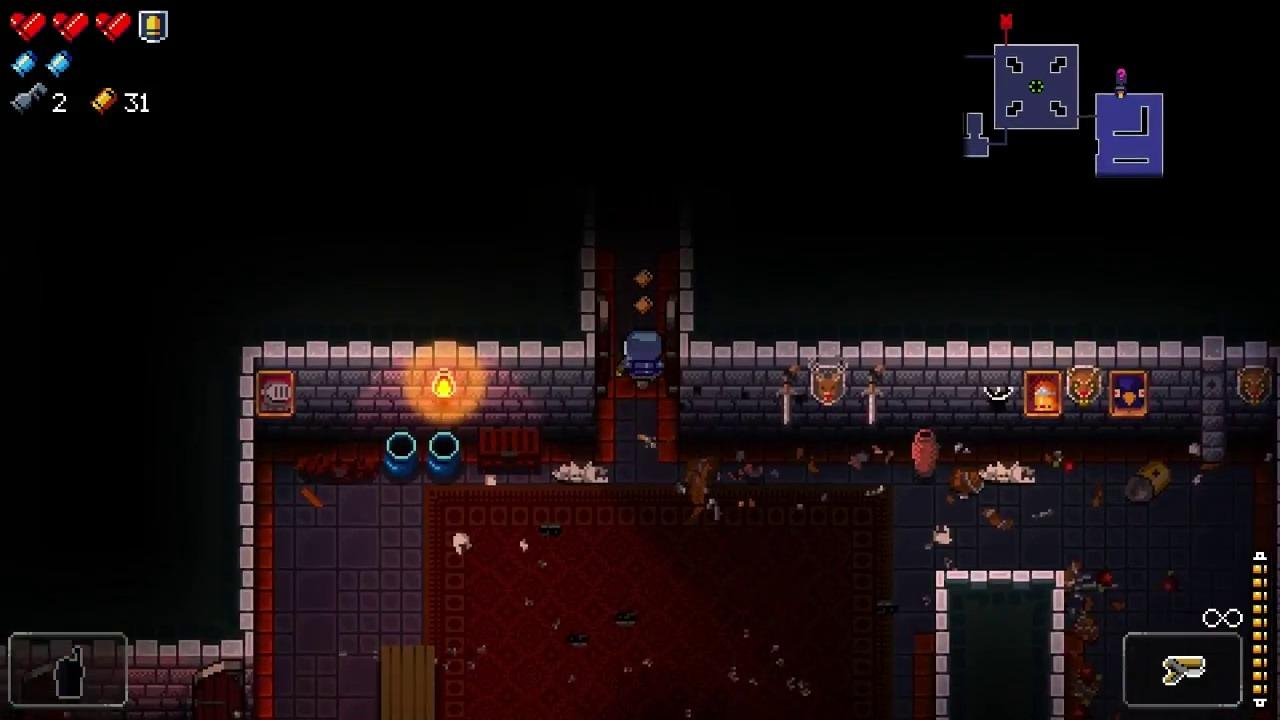dead_bullet_kin: (1125, 457, 1172, 502)
player: (625, 330, 665, 382)
table: (380, 647, 434, 720)
unlocked_door: (193, 660, 243, 720), (665, 289, 679, 381), (597, 297, 611, 382)
